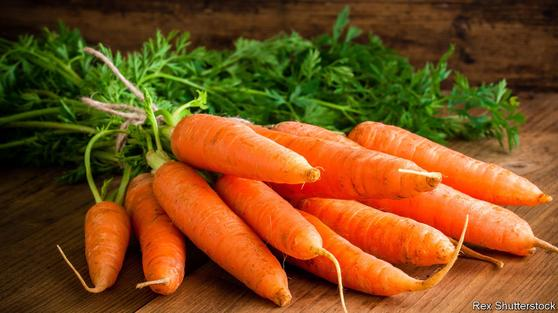carrot: (169, 106, 320, 186)
